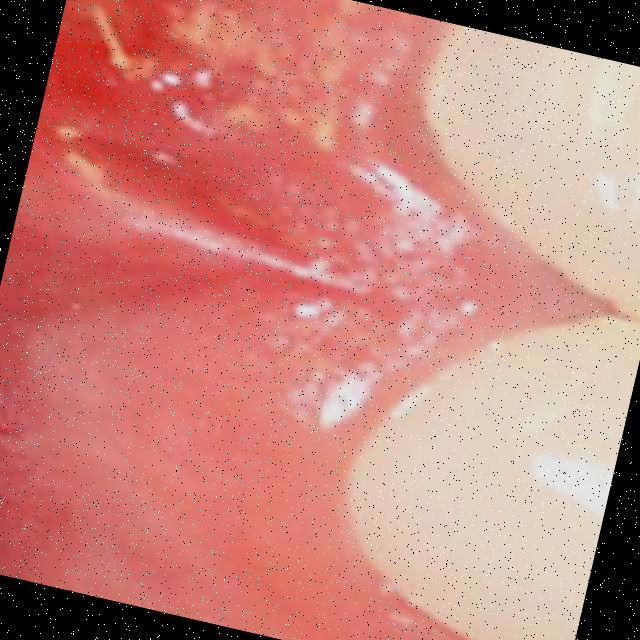abscess: (28, 0, 320, 217)
